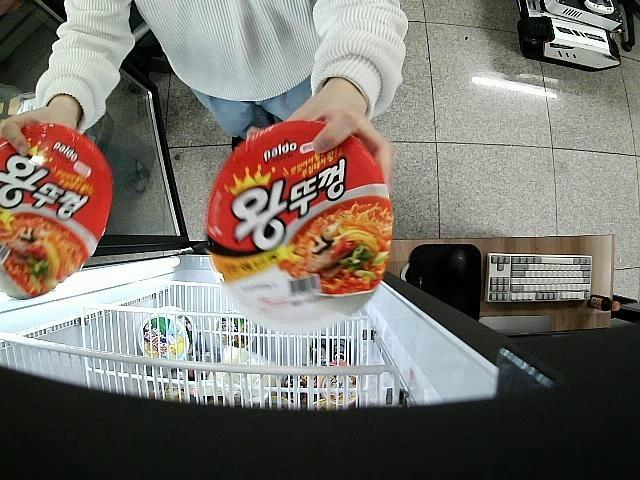10_wangTtukkeong: (204, 118, 393, 328), (1, 120, 110, 300)
